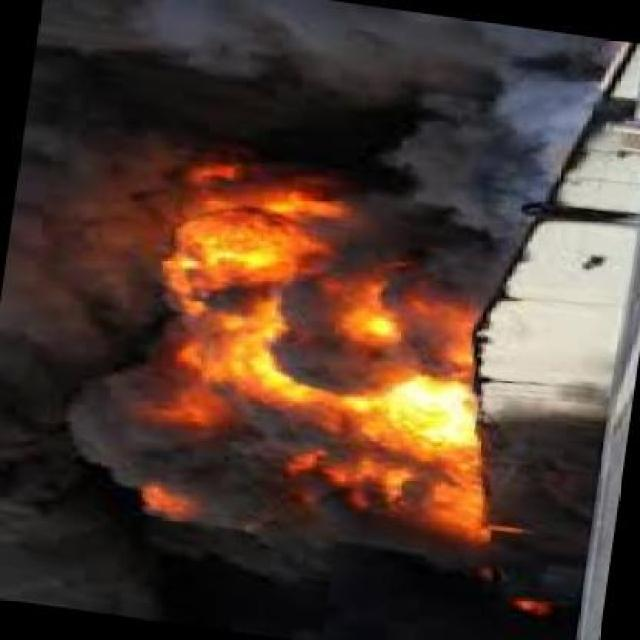Fire: (181, 190, 488, 520)
Smoke: (49, 8, 566, 174), (14, 178, 161, 602), (172, 524, 431, 636)
